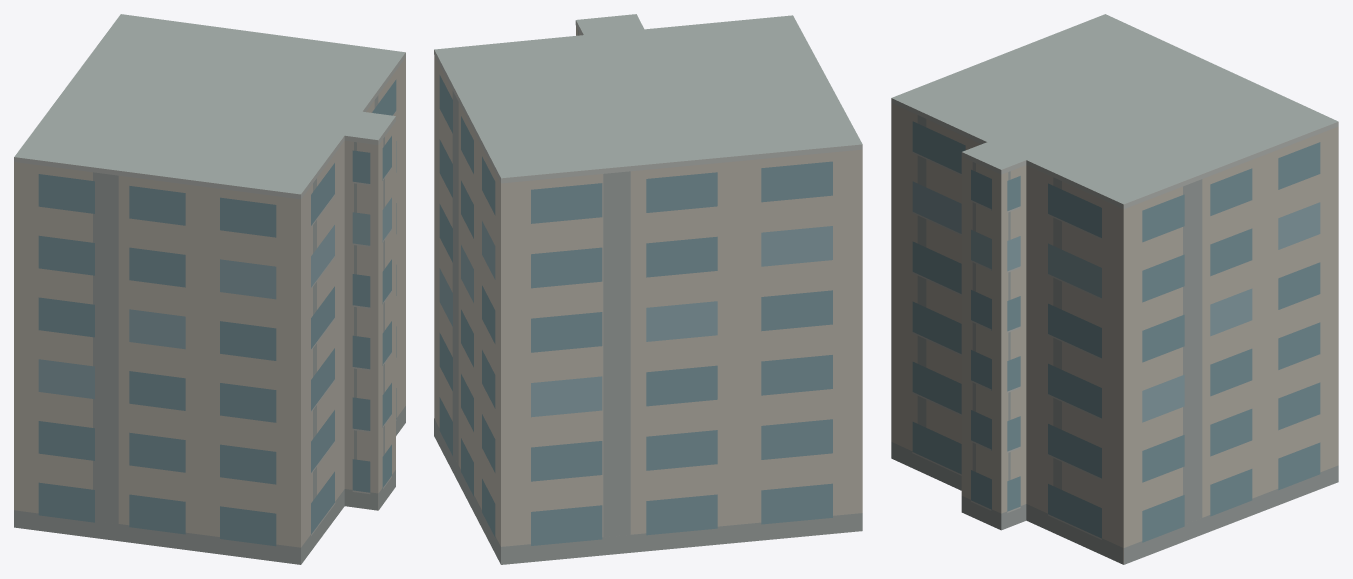
File: survey-upis-32864628.glb
3 views of the same model, side by side, from view 1: azimuth 30°, elevation 25°; view 2: azimuth 150°, elevation 25°; view 3: azimuth 270°, elevation 25° (orthographic). The views are drawn at different scales.
Parts seen in each view (by area): view 1: survey-upis-32864628.tmp; view 2: survey-upis-32864628.tmp; view 3: survey-upis-32864628.tmp.
Boxes of the visible parts, bbox=[...] form: survey-upis-32864628.tmp: bbox=[14, 14, 405, 564]; survey-upis-32864628.tmp: bbox=[434, 14, 862, 564]; survey-upis-32864628.tmp: bbox=[891, 14, 1338, 564].
Size of the model in its own units: 20.69 by 18.25 by 20.54.
